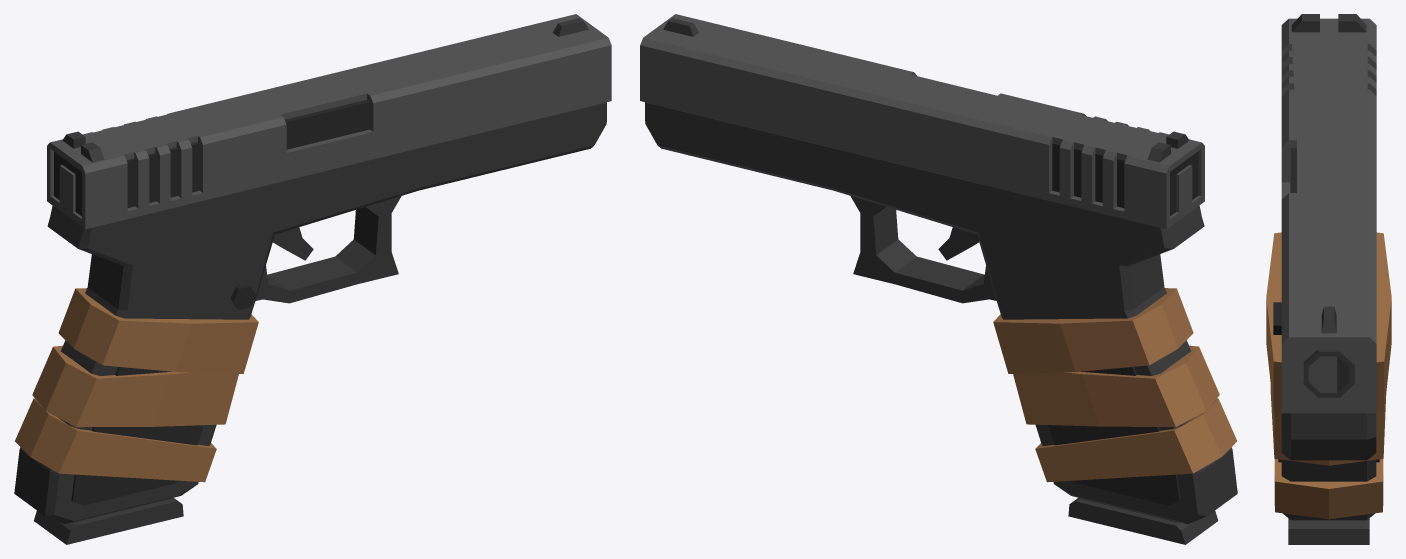
The model's file is Pistol_01.fbx.
3 renders of one model, left to right at view 1: azimuth 30°, elevation 25°; view 2: azimuth 150°, elevation 25°; view 3: azimuth 270°, elevation 25°, orthographic. The views are drawn at different scales.
Parts seen in each view (by area): view 1: Pistol_01, Pistol_01_2, Pistol_01_4, Pistol_01_3; view 2: Pistol_01, Pistol_01_2, Pistol_01_4, Pistol_01_3; view 3: Pistol_01_2, Pistol_01, Pistol_01_4.
Boxes of the visible parts, x1,y1,x2,y2 form: Pistol_01: (14,99,606,524); Pistol_01_2: (47,14,611,229); Pistol_01_4: (34,498,183,544); Pistol_01_3: (273,227,313,260); Pistol_01: (645,102,1237,524); Pistol_01_2: (640,14,1204,229); Pistol_01_4: (1068,497,1218,544); Pistol_01_3: (938,227,978,260); Pistol_01_2: (1281,14,1376,413); Pistol_01: (1266,148,1391,520); Pistol_01_4: (1288,518,1369,544).
Size of the model in its own units: 24.12 by 15.61 by 3.72.
